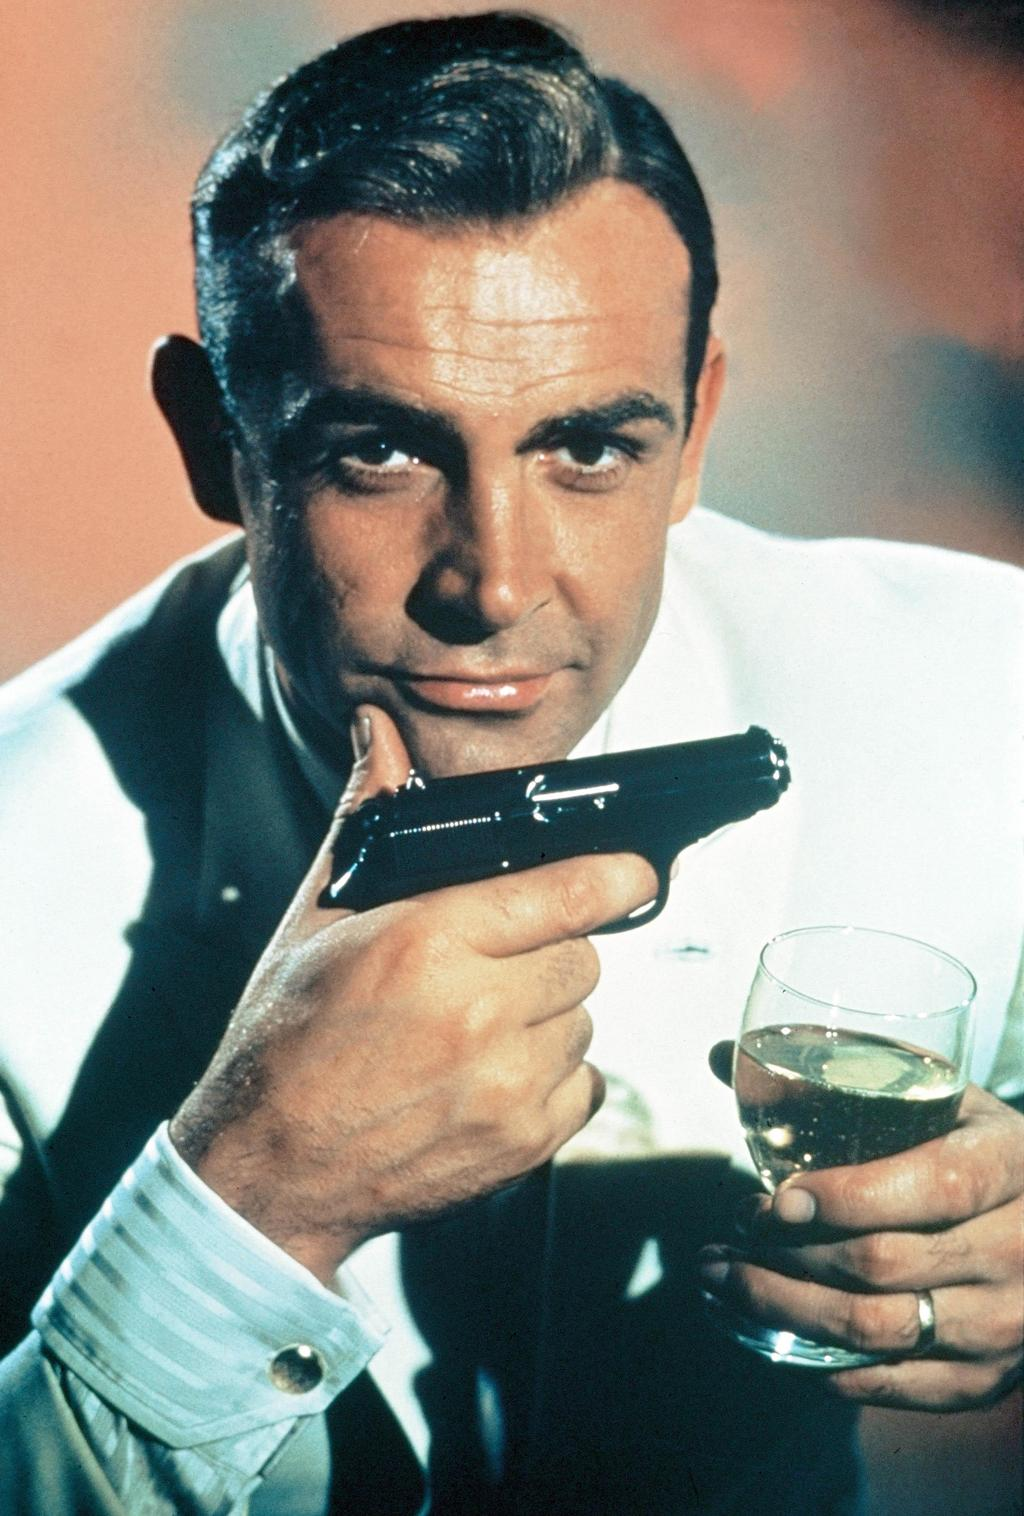face: (269, 237, 657, 779)
